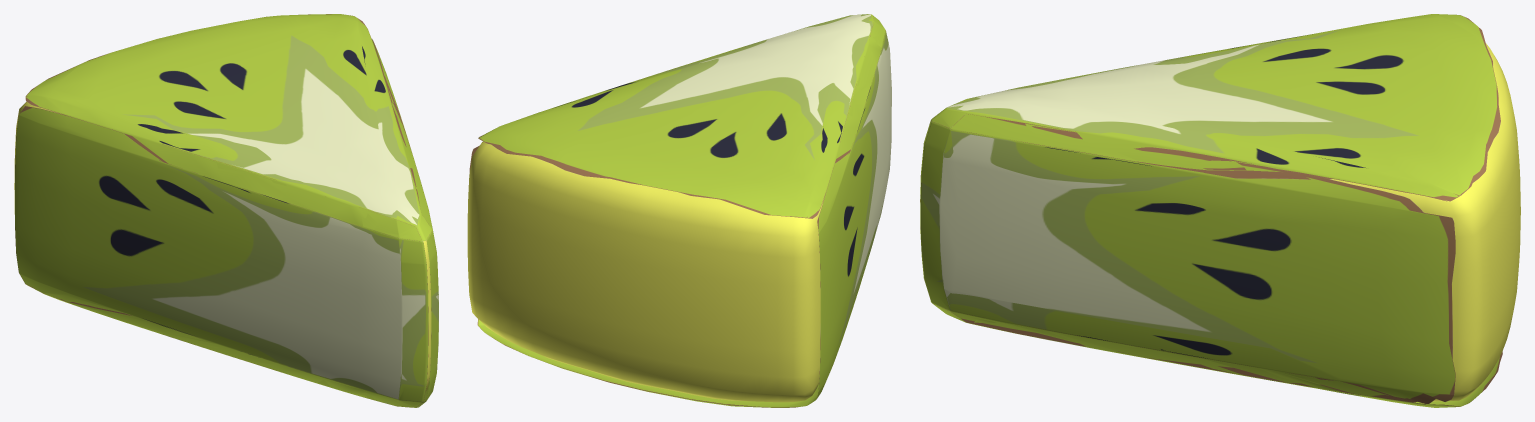
The model's file is 奇異果.glb.
3 renders of one model, left to right at view 1: azimuth 30°, elevation 25°; view 2: azimuth 150°, elevation 25°; view 3: azimuth 270°, elevation 25°, orthographic. The views are drawn at different scales.
Parts seen in each view (by area): view 1: 奇異果.001; view 2: 奇異果.001; view 3: 奇異果.001.
Part boxes in pixels (x1,y1,x2,y2): 奇異果.001: (14,14,438,407); 奇異果.001: (467,14,891,407); 奇異果.001: (920,14,1520,407).
Bounding box in the file's own units: 0.7084 × 0.4196 × 0.9271.
2 materials, 1 textured.
